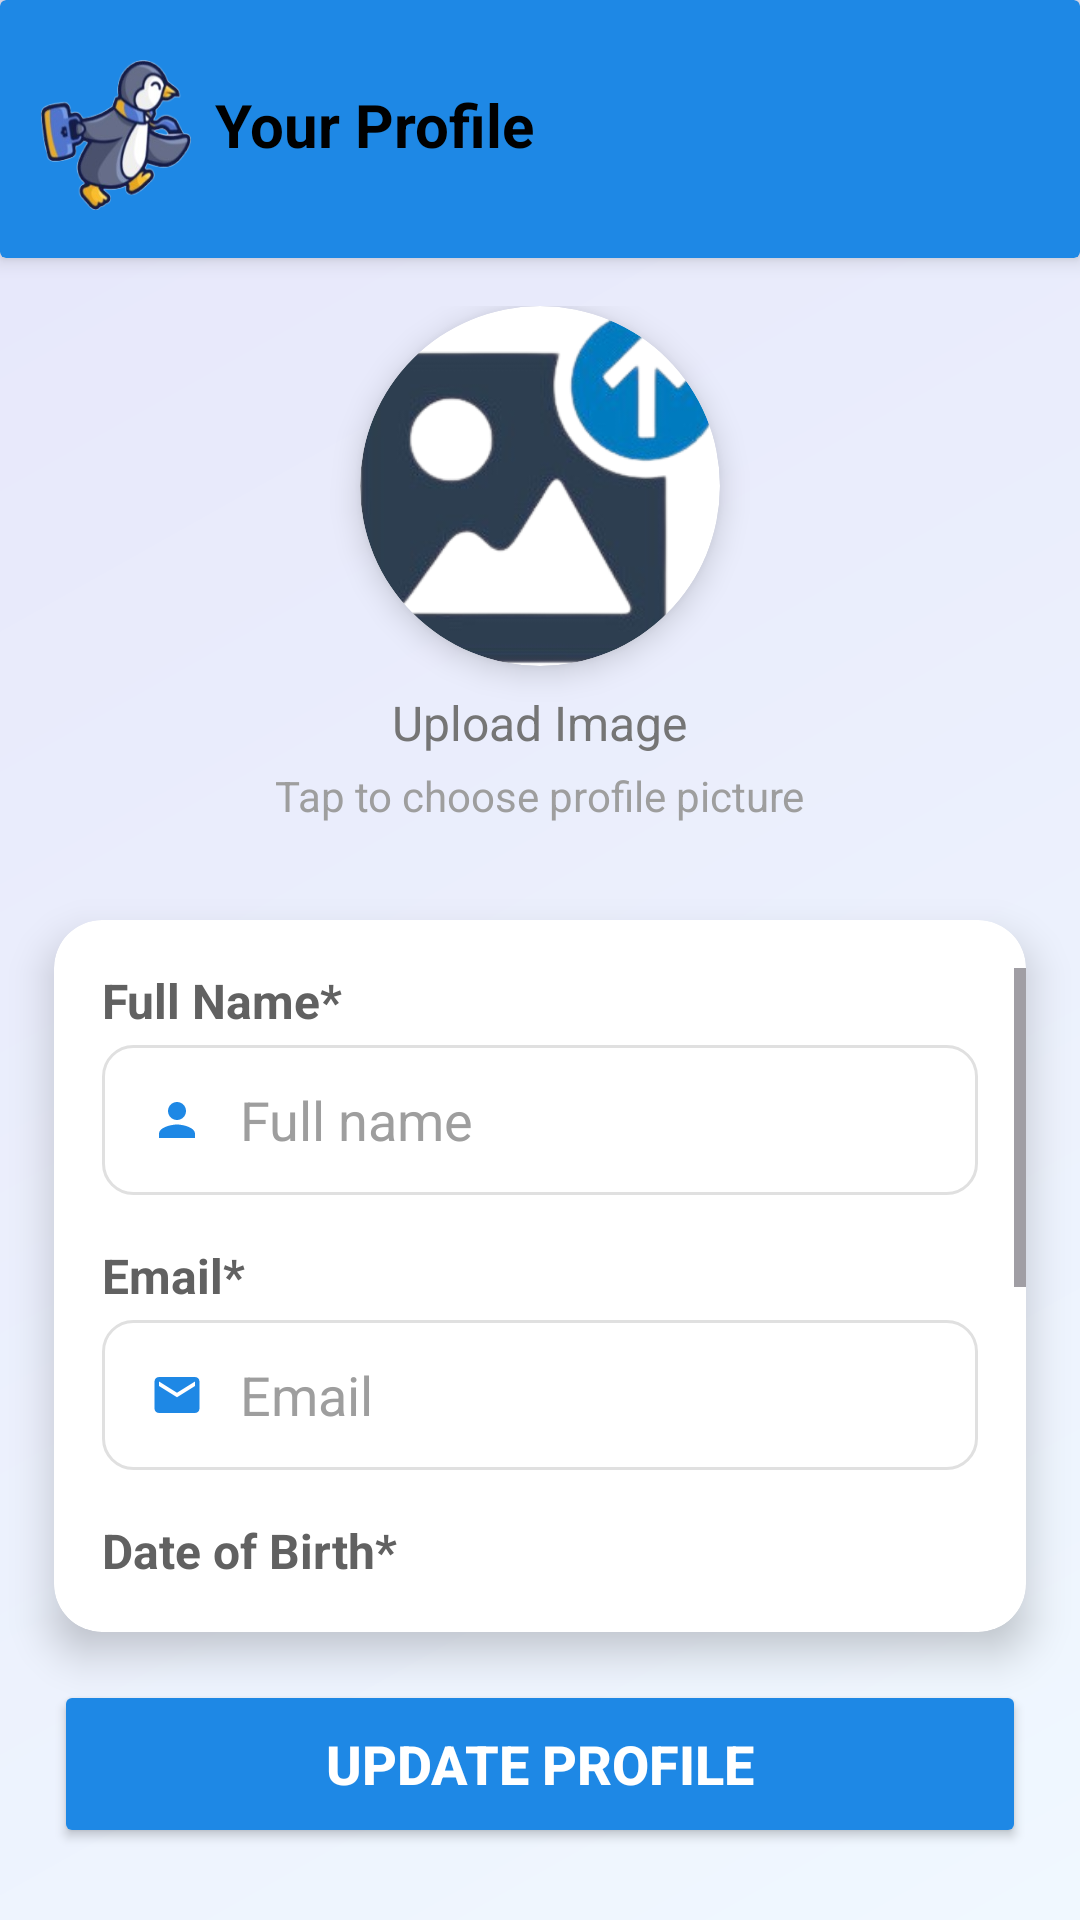

Icons on this 1080 × 1920 Android screen, each with the point to tap as point (x, y):
penguin: point (116, 135)
